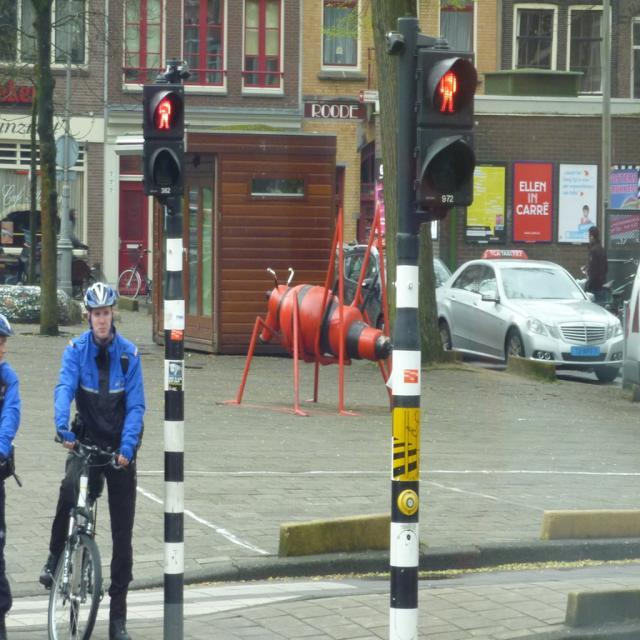traffic light: (412, 38, 477, 204), (140, 80, 189, 191)
